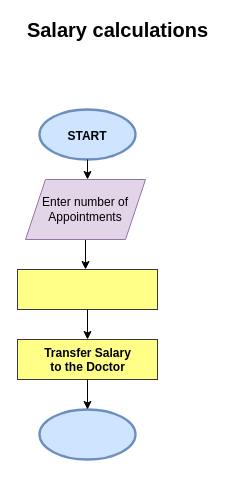
Image size: 235x478. Some labels were removed from this diagram. The box of each missing label's shape, as (x1, y1, x2, y2) in pixels:
Calculate Salary: (16, 268, 158, 310)
END: (38, 408, 136, 460)
